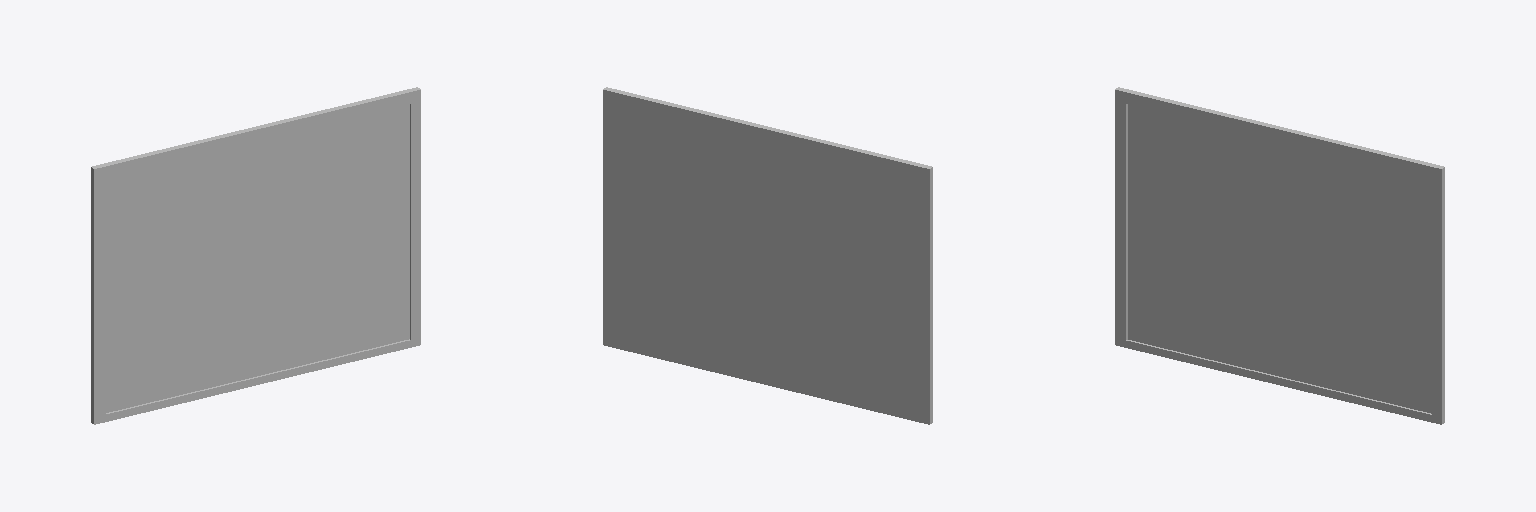
File: painting.obj
3 views of the same model, side by side, from view 1: azimuth 30°, elevation 25°; view 2: azimuth 150°, elevation 25°; view 3: azimuth 330°, elevation 25° (orthographic).
Parts seen in each view (by area): view 1: Plane, Plane.001; view 2: Plane.001; view 3: Plane, Plane.001.
Part boxes in pixels (x1,y1,x2,y2): Plane: (106, 104, 409, 412); Plane.001: (91, 87, 420, 424); Plane.001: (603, 87, 932, 424); Plane: (1128, 104, 1431, 413); Plane.001: (1115, 87, 1444, 424).
Size of the model in its own units: 2.74 by 2.05 by 0.0502.